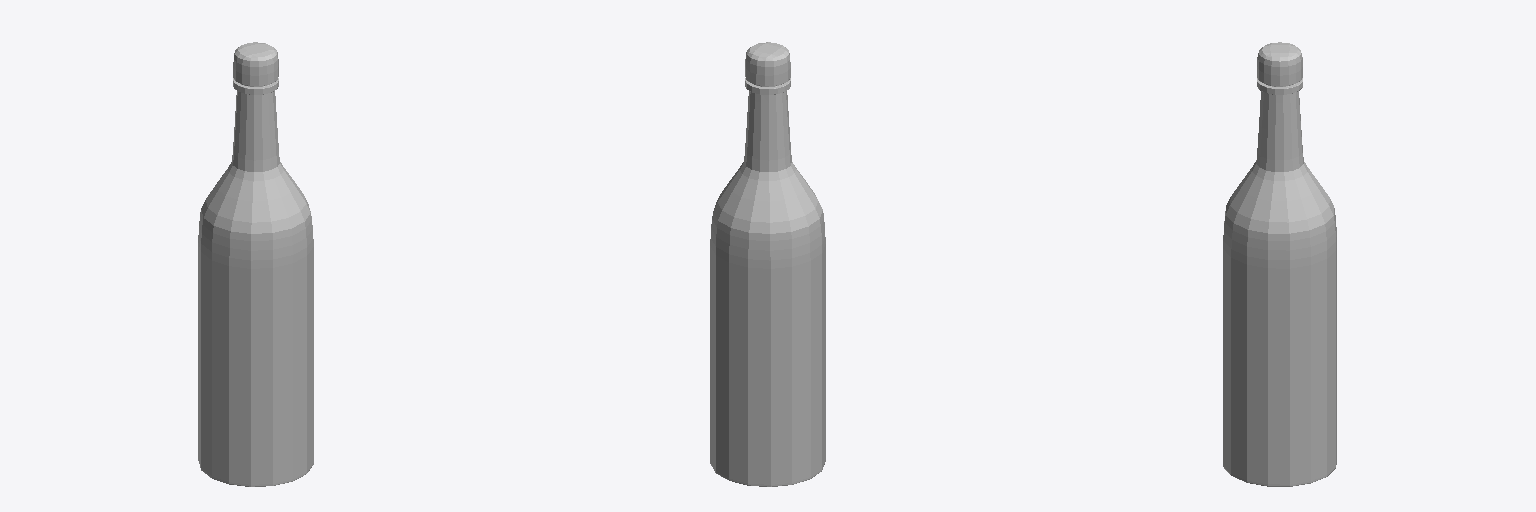
File: ring_toss_bottle.obj
The picture shows the model from 3 angles: view 1: azimuth 30°, elevation 25°; view 2: azimuth 150°, elevation 25°; view 3: azimuth 270°, elevation 25°; orthographic projection.
Visible parts, largest first — view 1: 18851_Ring_Toss_Game_V1.001; view 2: 18851_Ring_Toss_Game_V1.001; view 3: 18851_Ring_Toss_Game_V1.001.
Part boxes in pixels (bbox=[...]): 18851_Ring_Toss_Game_V1.001: bbox=[198, 42, 313, 486]; 18851_Ring_Toss_Game_V1.001: bbox=[710, 42, 825, 486]; 18851_Ring_Toss_Game_V1.001: bbox=[1223, 42, 1336, 486].
Size of the model in its own units: 10.46 by 41.89 by 10.46.